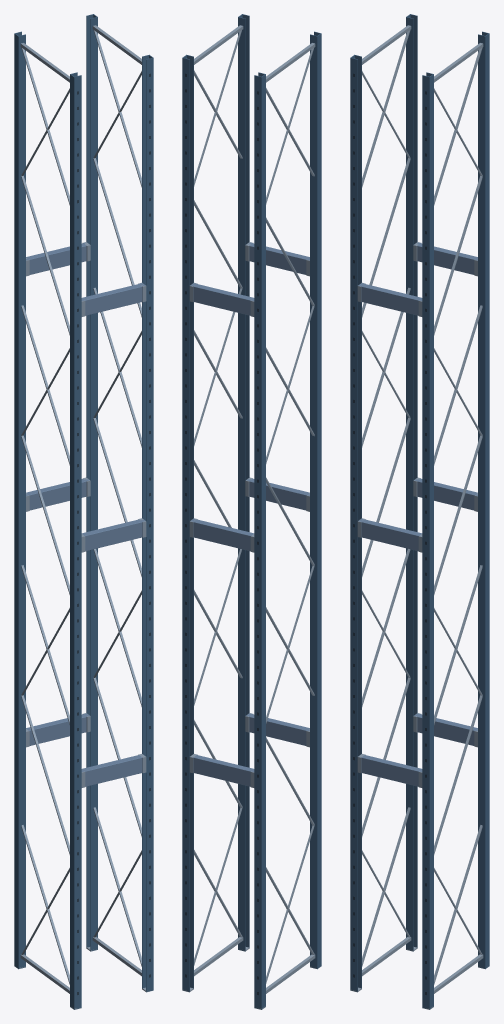
Rendered from SM_GHS_V2Rack_A_W08169.fbx.
3 views of the same model, side by side, from view 1: azimuth 30°, elevation 25°; view 2: azimuth 150°, elevation 25°; view 3: azimuth 330°, elevation 25° (orthographic).
Parts seen in each view (by area): view 1: SM_GHS_V2Rack_A_W08169; view 2: SM_GHS_V2Rack_A_W08169; view 3: SM_GHS_V2Rack_A_W08169.
Part boxes in pixels (<box>): SM_GHS_V2Rack_A_W08169: <box>14,14,153,1009</box>; SM_GHS_V2Rack_A_W08169: <box>182,14,321,1009</box>; SM_GHS_V2Rack_A_W08169: <box>350,14,489,1009</box>.
Size of the model in its own units: 81.69 by 107 by 915.
